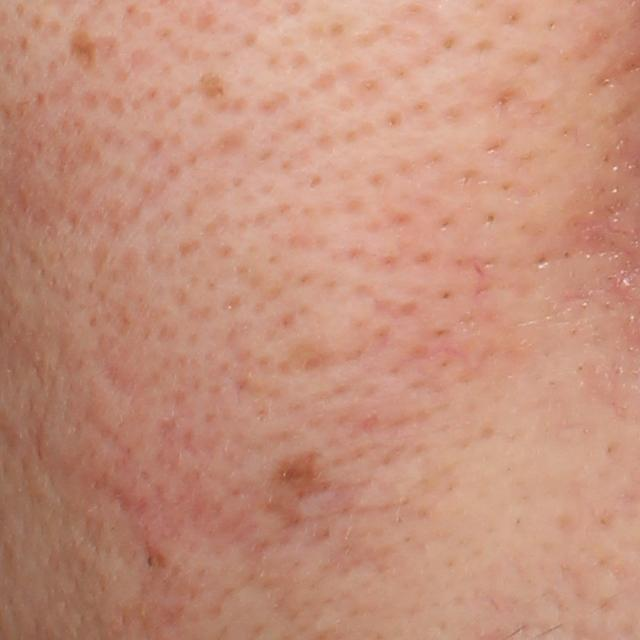atrophic_scar: (92, 337, 154, 416), (97, 483, 159, 546), (271, 449, 340, 504), (254, 494, 307, 550), (280, 332, 346, 376)
